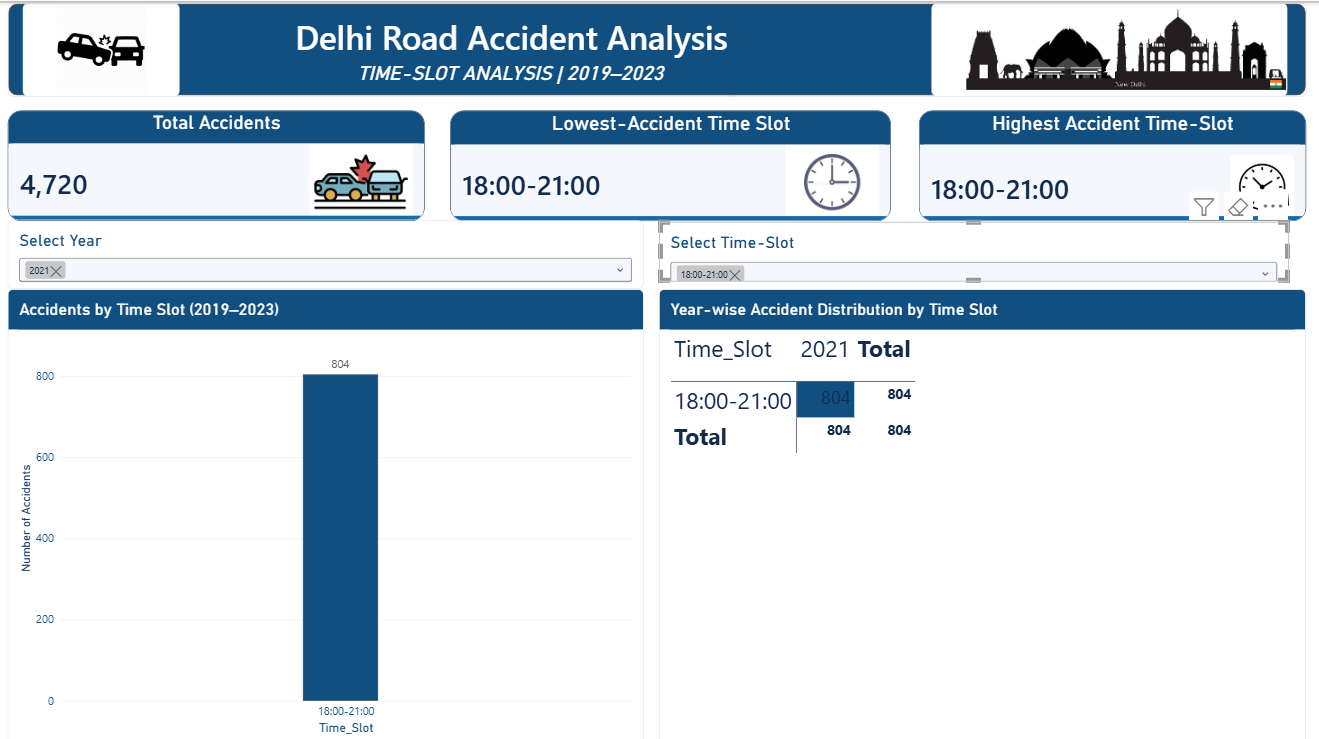

Layout of this report page (visuals, bound fields, positions):
{"tool":"powerbi","page":{"name":"Time-Slot Analysis","canvas":[1920,1080],"ordinal":1},"visuals":[{"type":"cardVisual","title":"Highest Accident Time-Slot","fields":{"Data":["DimYear.Highest Accident Time Slot"]},"box":[1337.3,155.6,562.8,161.1],"z":1000},{"type":"cardVisual","title":"Lowest-Accident Time Slot","fields":{"Data":["DimYear.Lowest Accident Time Slot"]},"box":[656.9,155.6,640.6,161.1],"z":2000},{"type":"clusteredColumnChart","title":"Accidents by Time Slot (2019–2023)","fields":{"Category":["TimeSlot_Accidents.Time_Slot"],"Y":["DimYear.Total Time-Slot Accidents"]},"box":[12.7,416.2,924.7,664.1],"z":4000},{"type":"listSlicer","title":"Select  Year","fields":{"Values":["DimYear.Year"]},"box":[12.7,316.7,924.7,99.5],"z":5000},{"type":"listSlicer","title":"Select Time-Slot","fields":{"Values":["TimeSlot_Accidents.Time_Slot"]},"box":[960,318.2,915.7,86.9],"z":6000},{"type":"shape","box":[12.7,0,1889.3,135.7],"z":7000},{"type":"textbox","box":[376.4,16.3,738.3,68.8],"z":8000},{"type":"textbox","title":"TIME-SLOT ANALYSIS | 2019–2023","box":[418,85.1,651.5,50.7],"z":9000},{"type":"image","box":[34.4,0,228,135.7],"z":10000},{"type":"image","box":[1357.2,0,517.6,135.7],"z":11000},{"type":"cardVisual","title":"Total Accidents","fields":{"Data":["DimYear.Total Accidents Display"]},"box":[12.7,155.6,606.2,161.1],"z":12000},{"type":"pivotTable","title":"Year-wise Accident Distribution by Time Slot","fields":{"Columns":["DimYear.Year"],"Rows":["TimeSlot_Accidents.Time_Slot"],"Values":["DimYear.Total Time-Slot Accidents"]},"box":[959.1,416.2,941,664.1],"z":12001}]}

Visuals, with their boxes in screenshot pixels (x1, y1, x2, y2), scaled from the page's 1920x1080 canvas onto the 1319x739 screenshot:
"Highest Accident Time-Slot" cardVisual: {"x1": 919, "y1": 106, "x2": 1305, "y2": 217}
"Lowest-Accident Time Slot" cardVisual: {"x1": 451, "y1": 106, "x2": 891, "y2": 217}
"Accidents by Time Slot (2019–2023)" clusteredColumnChart: {"x1": 9, "y1": 285, "x2": 644, "y2": 738}
"Select  Year" listSlicer: {"x1": 9, "y1": 217, "x2": 644, "y2": 285}
"Select Time-Slot" listSlicer: {"x1": 660, "y1": 218, "x2": 1289, "y2": 277}
shape: {"x1": 9, "y1": 0, "x2": 1307, "y2": 93}
textbox: {"x1": 259, "y1": 11, "x2": 766, "y2": 58}
"TIME-SLOT ANALYSIS | 2019–2023" textbox: {"x1": 287, "y1": 58, "x2": 735, "y2": 93}
image: {"x1": 24, "y1": 0, "x2": 180, "y2": 93}
image: {"x1": 932, "y1": 0, "x2": 1288, "y2": 93}
"Total Accidents" cardVisual: {"x1": 9, "y1": 106, "x2": 425, "y2": 217}
"Year-wise Accident Distribution by Time Slot" pivotTable: {"x1": 659, "y1": 285, "x2": 1305, "y2": 738}
